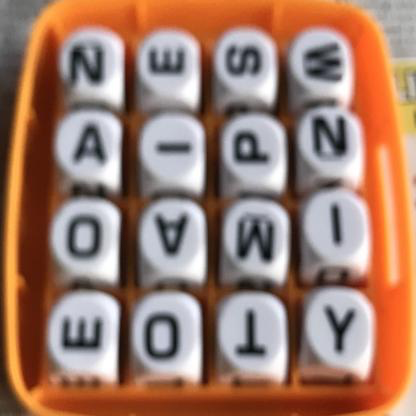a: (145, 200, 200, 266), (68, 116, 118, 183)
e: (47, 298, 108, 357), (143, 30, 195, 89)
i: (145, 120, 195, 179), (320, 194, 357, 263)
m: (229, 199, 288, 274)
n: (59, 28, 122, 98), (307, 109, 355, 168)
o: (135, 302, 197, 372), (58, 208, 109, 270)
p: (223, 119, 280, 178)
s: (217, 32, 268, 92)
t: (226, 300, 278, 367)
w: (296, 32, 351, 99)
y: (313, 290, 368, 367)
